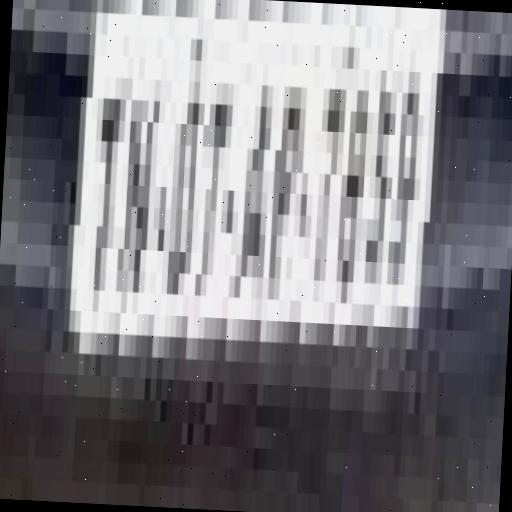number plate: (0, 0, 491, 395)
